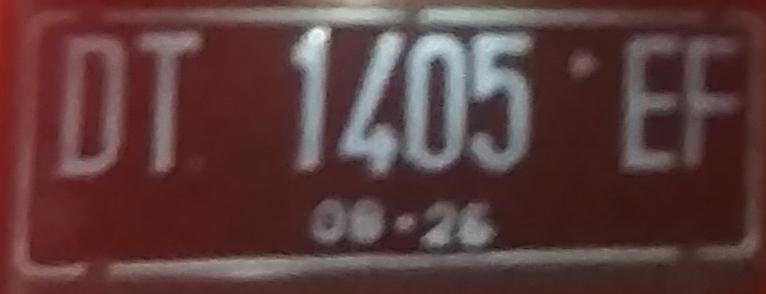0: (405, 26, 468, 177)
1: (280, 23, 335, 173)
4: (335, 25, 406, 172)
5: (467, 23, 540, 177)
D: (52, 29, 134, 178)
E: (611, 23, 684, 179)
F: (684, 24, 748, 178)
T: (132, 25, 205, 178)
